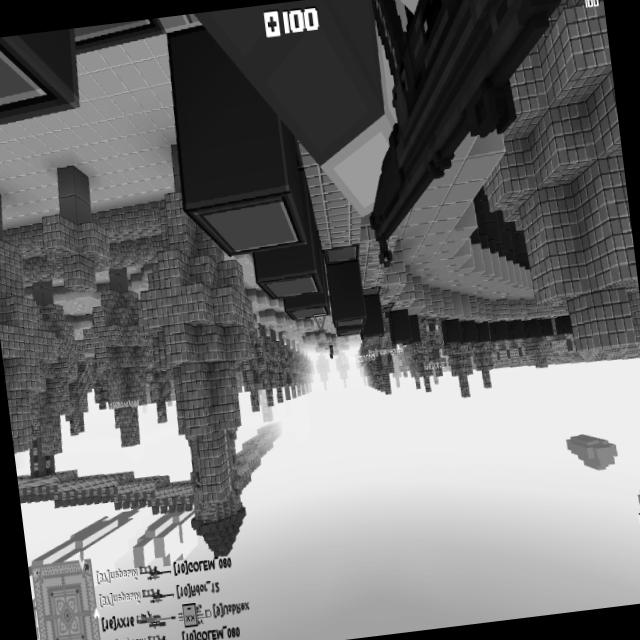enemy: (328, 345, 334, 358)
